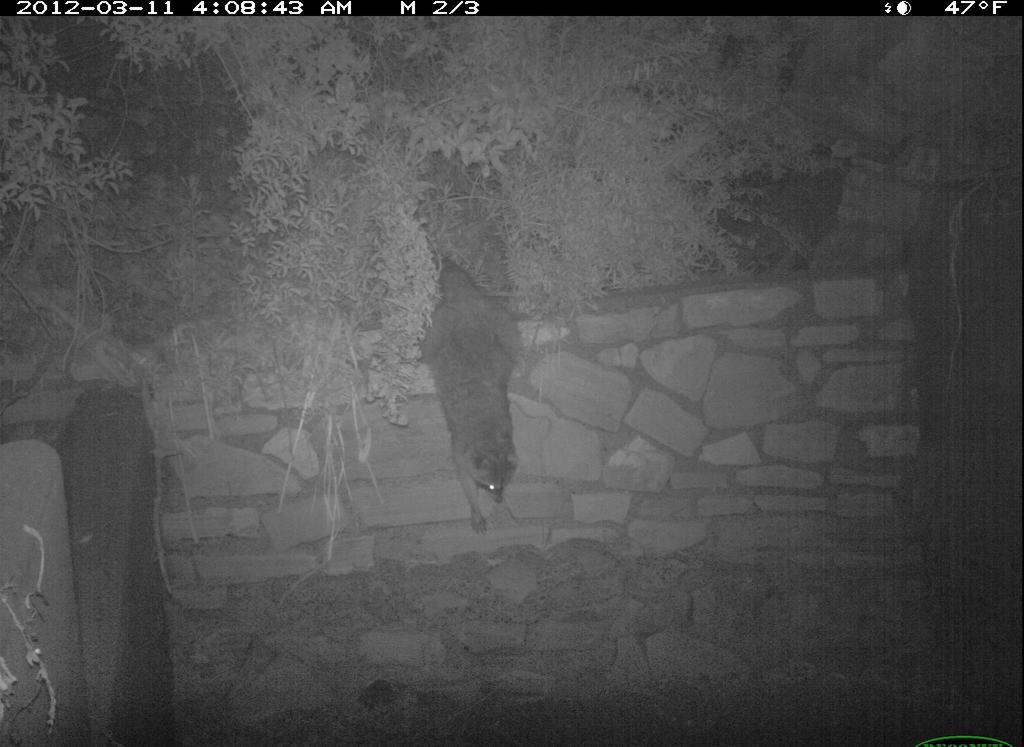raccoon: (417, 255, 534, 542)
